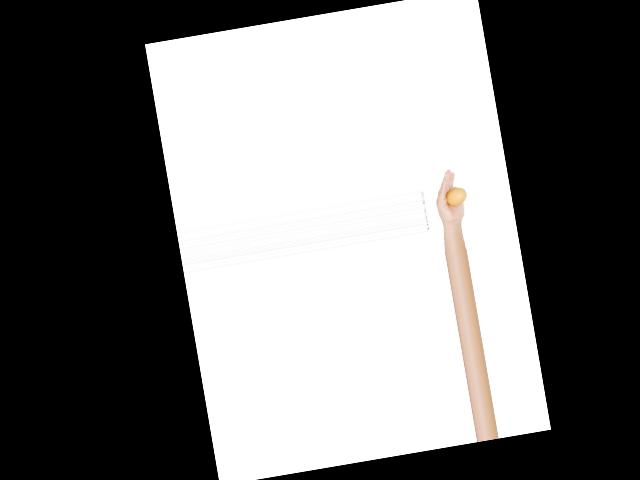egg: (443, 186, 468, 207)
